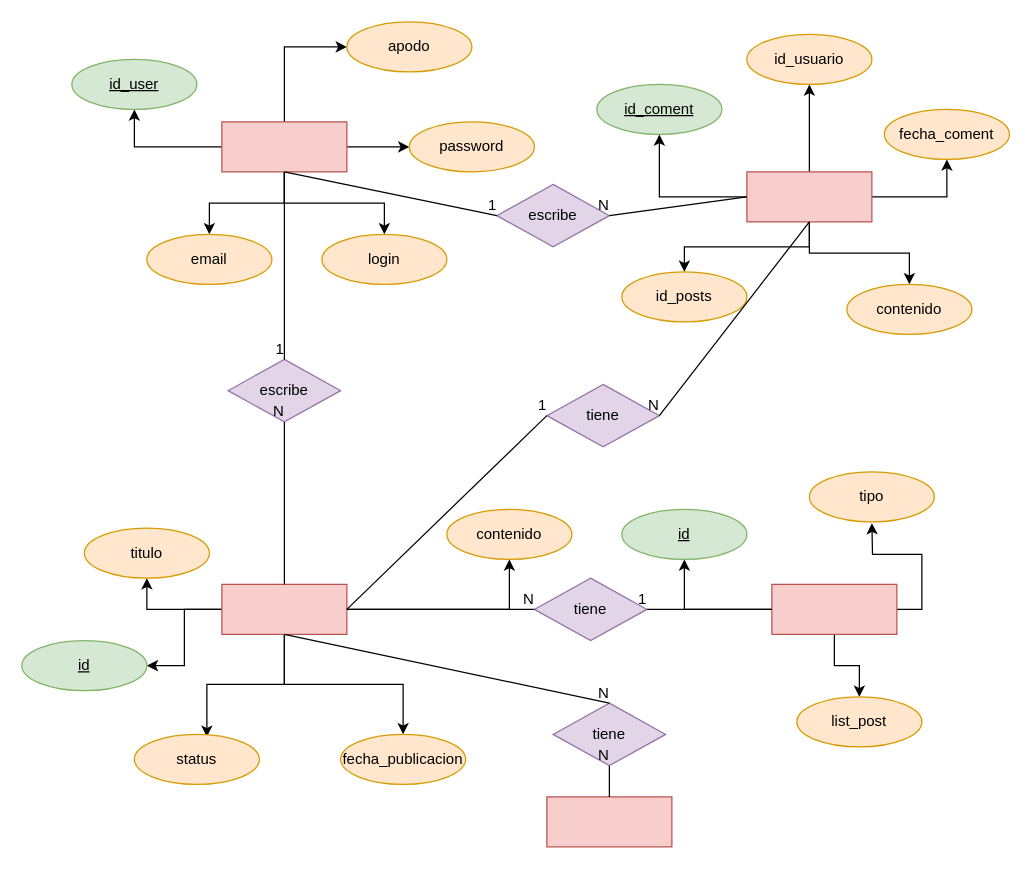
This 1031x869 diagram has some shape labels left out. The shapes that lost their labels are listed below. From the top down, each one's box as (x1, y1, x2, y2) in pixels, then its label:
(221, 121, 347, 172): usuarios
(746, 171, 872, 222): comnetarios
(221, 583, 347, 634): posts
(771, 583, 897, 634): categorias
(546, 796, 672, 847): etiquetas
